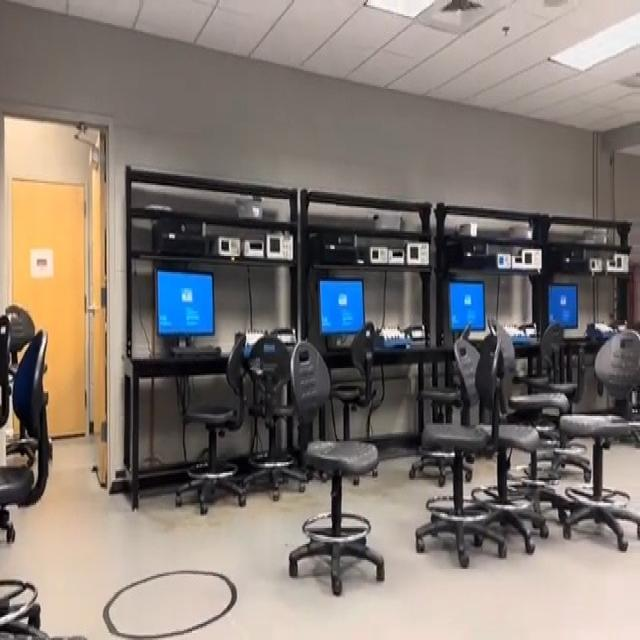drone: (242, 355, 269, 393)
